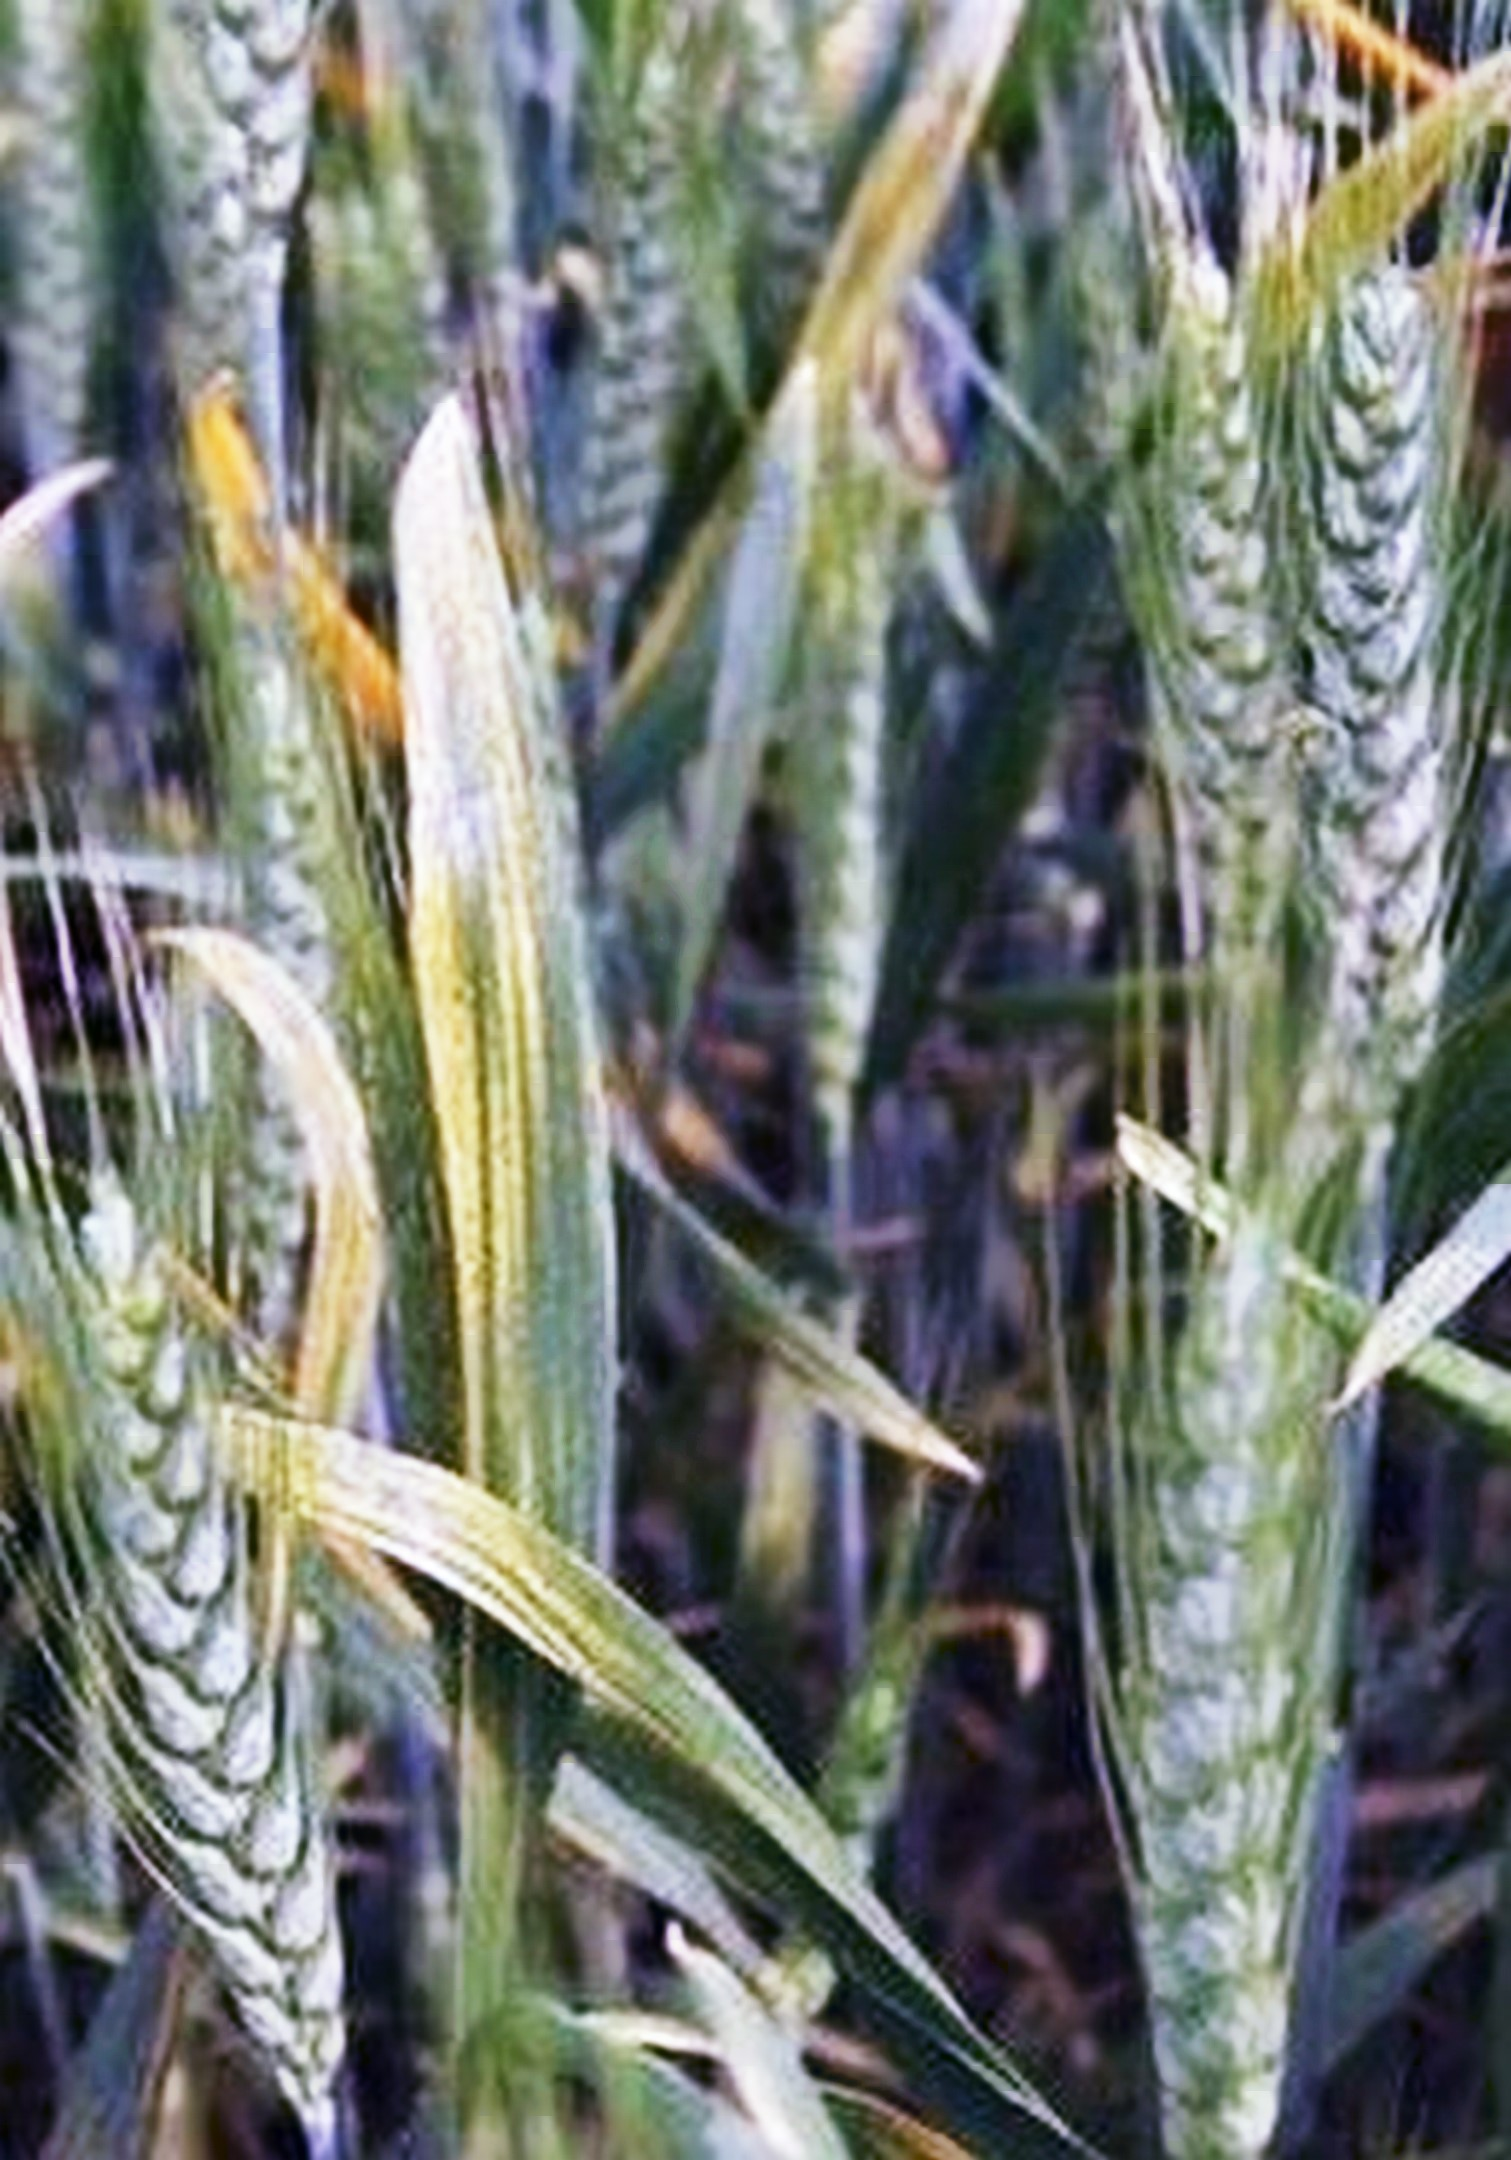Healthy Wheat: (31, 1229, 407, 2042), (1290, 249, 1508, 1073)
